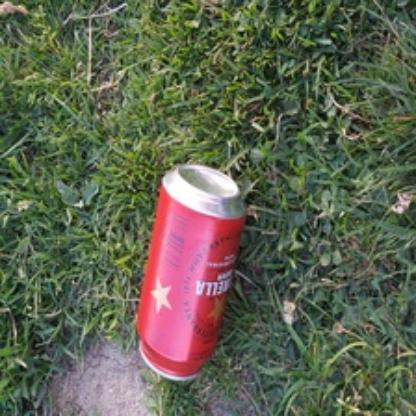Can: (136, 162, 242, 384)
